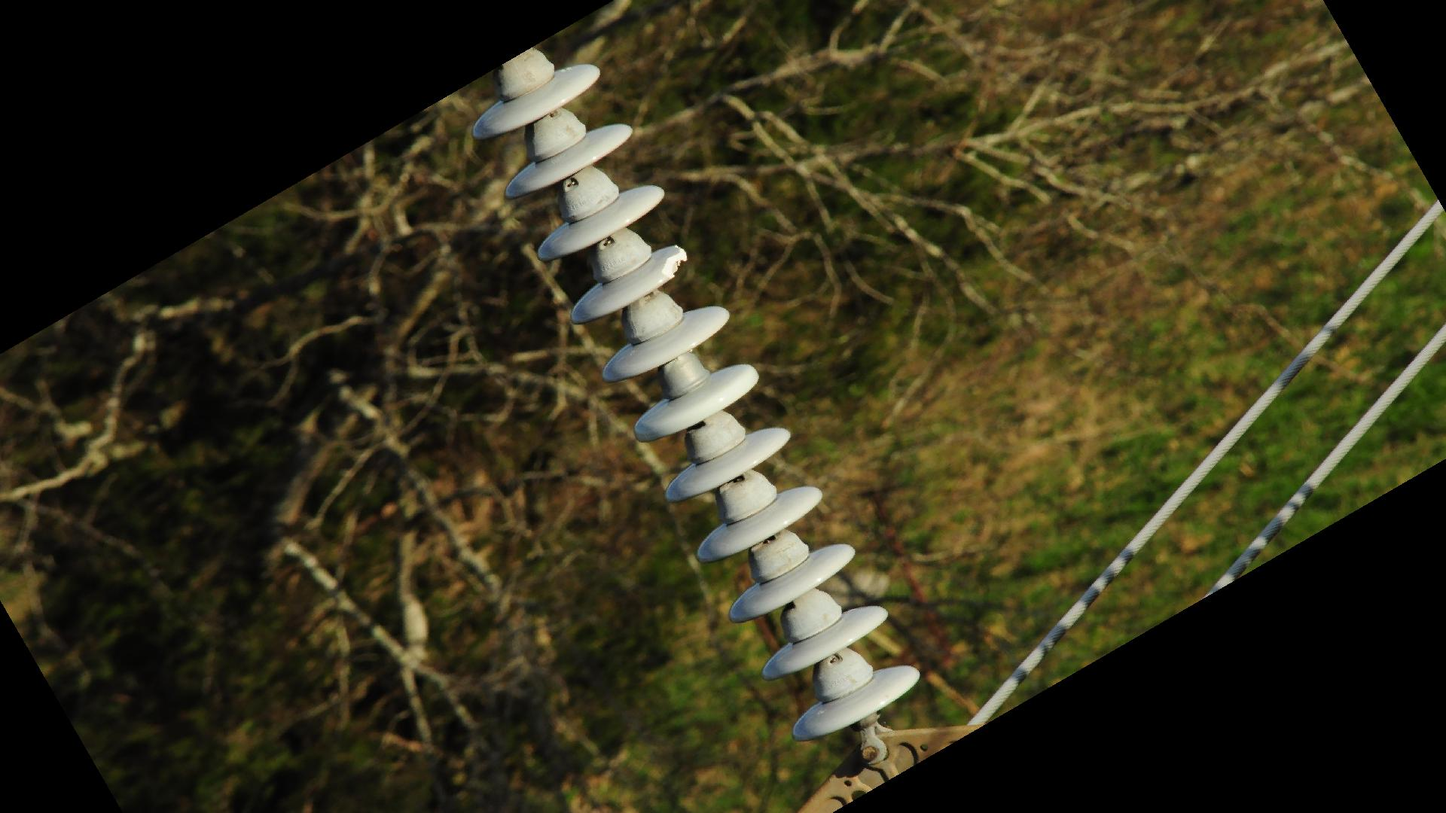insulator: (465, 55, 928, 750)
insulator_breakage: (655, 241, 690, 285)
